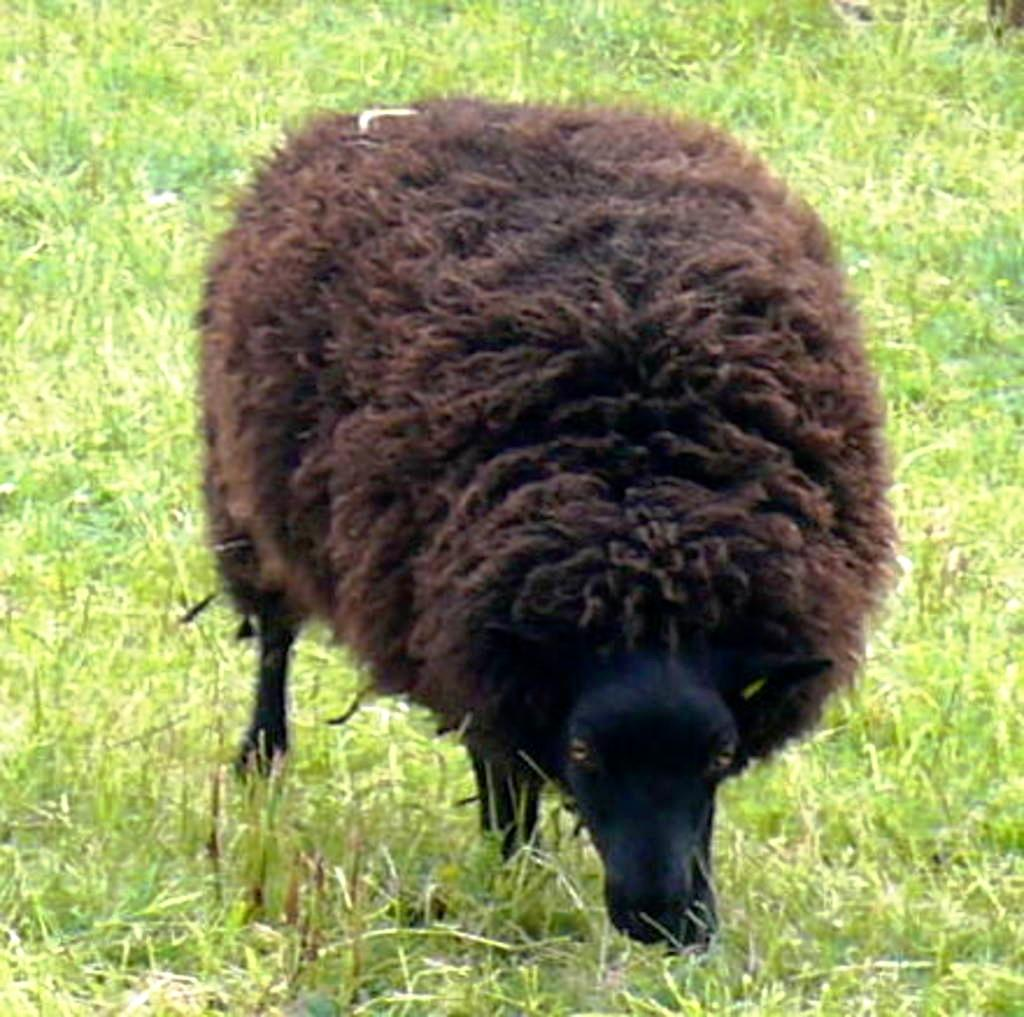Sheep: (182, 110, 889, 952)
